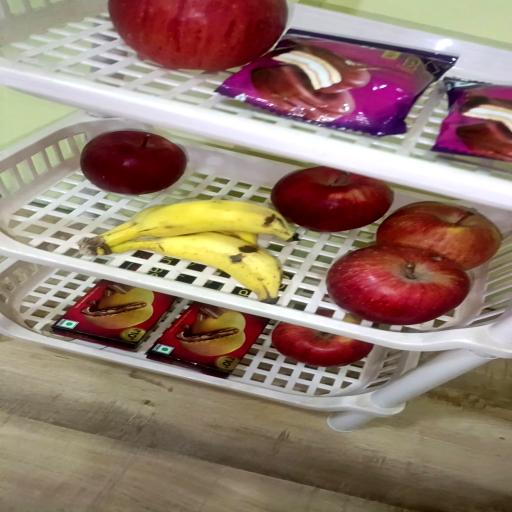Apple: (110, 0, 289, 72), (327, 246, 471, 326), (376, 204, 501, 272), (272, 169, 394, 235), (80, 130, 186, 194), (273, 324, 375, 366)
Choco Fills: (150, 303, 270, 378), (51, 281, 174, 352)
Choco Pie: (220, 28, 461, 136), (432, 79, 510, 161)
